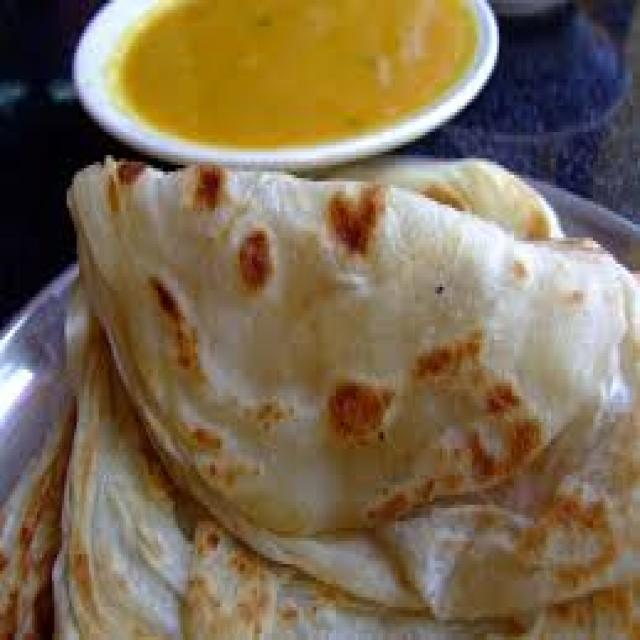Paratha: (99, 49, 637, 640)
